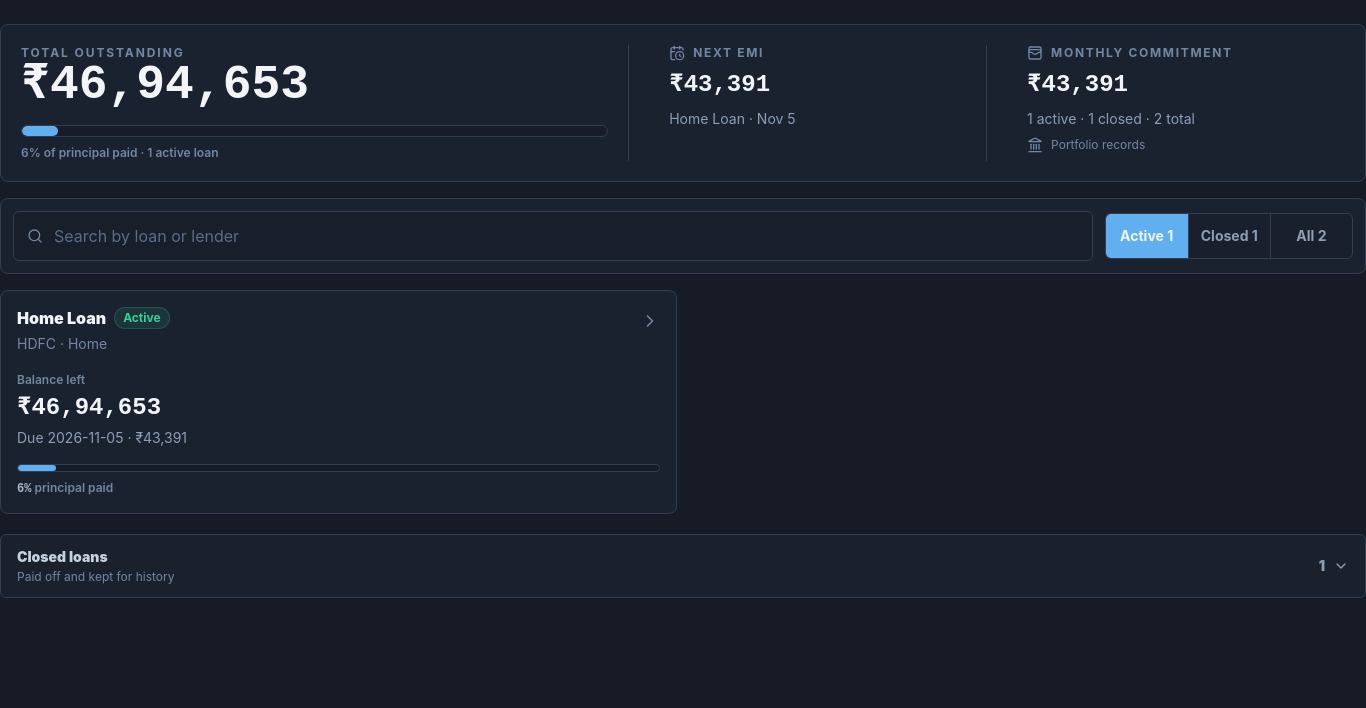
EmiTrackerAdminView › keeps closed loans in a collapsed secondary section
Check: the button "Home Loan" is shown, box [0,290,677,514]
Check: the button "car loan" is not shown
Click the button with aria-label "closed loans 1".
click(62, 556)  # box [0,534,1365,598]
(page scrolled)
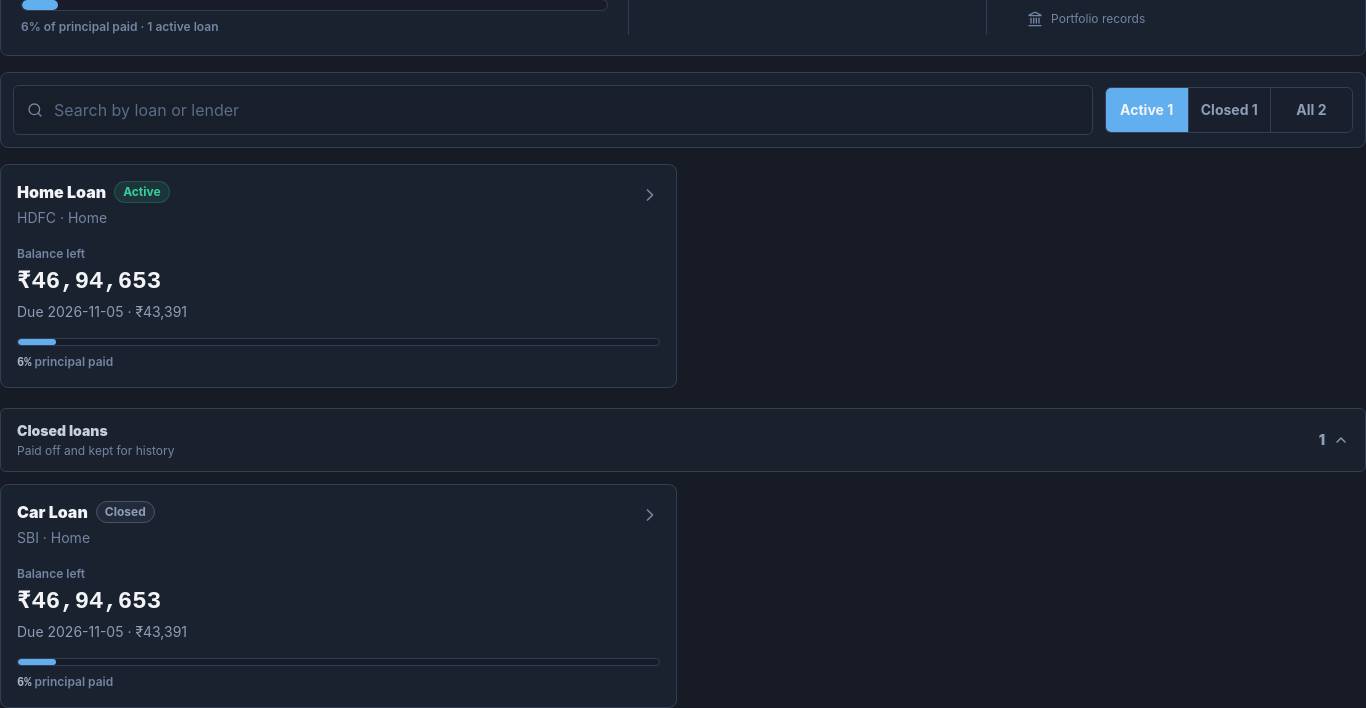
Check: the button "Car Loan" is shown, box [0,484,677,707]
